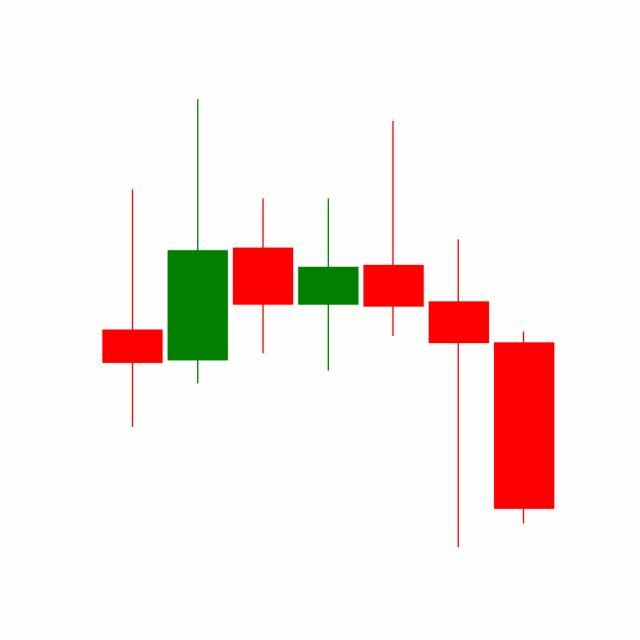Three Outside Up-Down: (295, 116, 492, 548)
